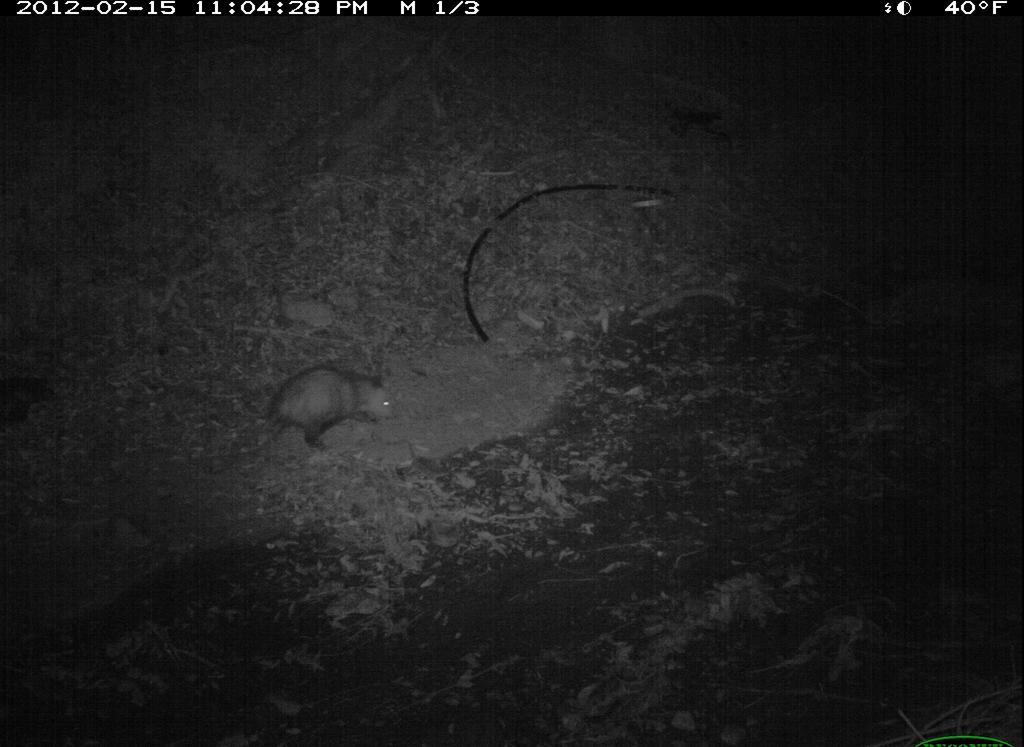opossum: (194, 356, 408, 465)
